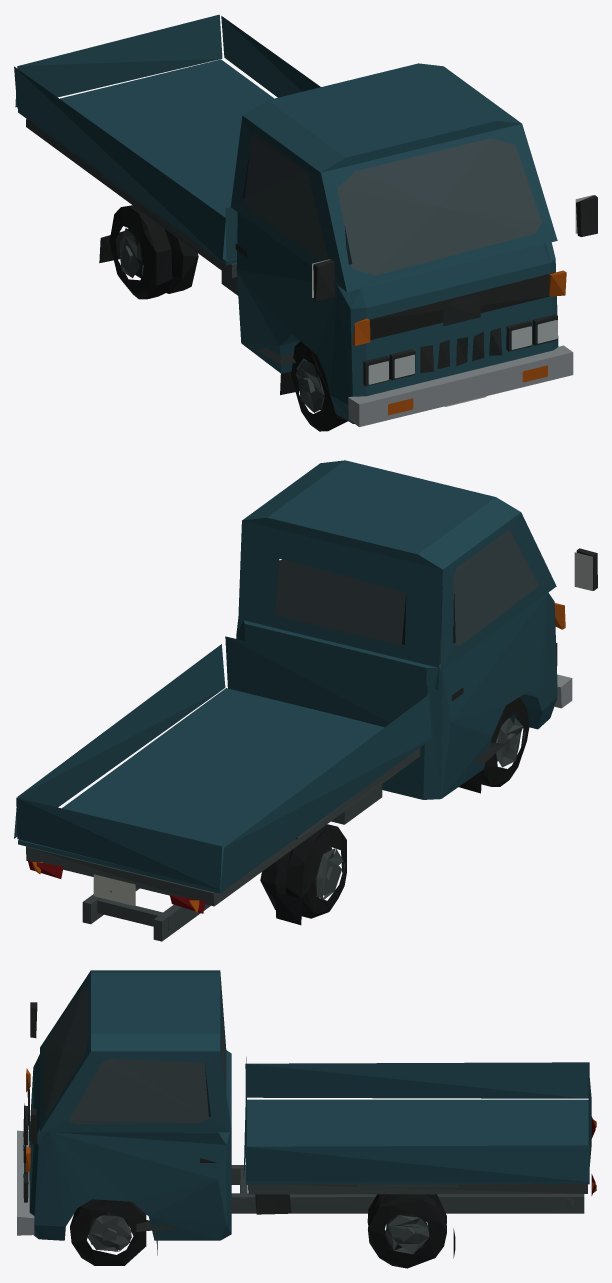
Rendered from light-truck-lod2.glb.
3 renders of one model, top to bottom at view 1: azimuth 30°, elevation 25°; view 2: azimuth 150°, elevation 25°; view 3: azimuth 270°, elevation 25°, orthographic. The views are drawn at different scales.
Parts seen in each view (by area): view 1: cab pressed lower shell; view 2: cab pressed lower shell; view 3: cab pressed lower shell.
Boxes of the visible parts, x1,y1,x2,y2 form: cab pressed lower shell: [14, 14, 597, 431]; cab pressed lower shell: [14, 460, 597, 941]; cab pressed lower shell: [17, 970, 596, 1268].
Size of the model in its own units: 2.22 by 2.07 by 4.83.
